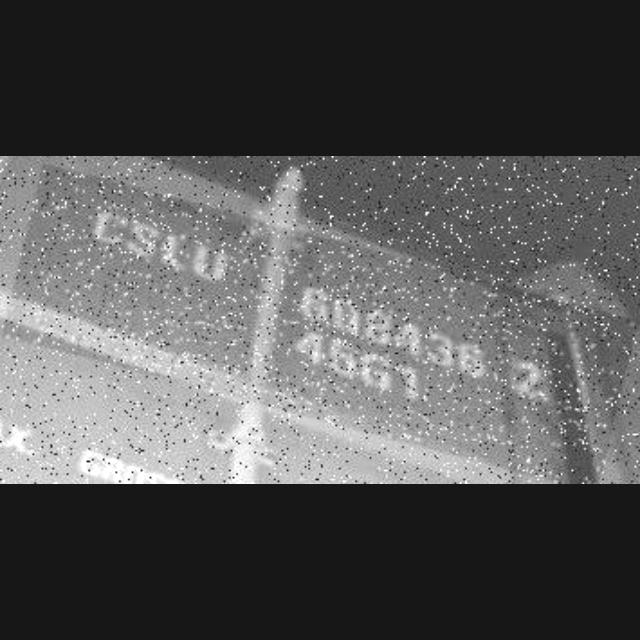0: (329, 294, 363, 344)
1: (392, 358, 428, 404)
2: (511, 356, 547, 404)
3: (426, 324, 454, 372)
4: (394, 316, 428, 366), (293, 324, 323, 366)
6: (324, 336, 360, 384), (454, 336, 486, 382), (296, 284, 330, 326)
8: (362, 302, 394, 348)
c: (90, 203, 128, 251)
g: (358, 346, 392, 392), (78, 443, 100, 477)
l: (158, 227, 190, 275)
r: (102, 448, 126, 484)
s: (128, 211, 158, 261)
u: (188, 235, 232, 282)
x: (0, 418, 36, 457)
